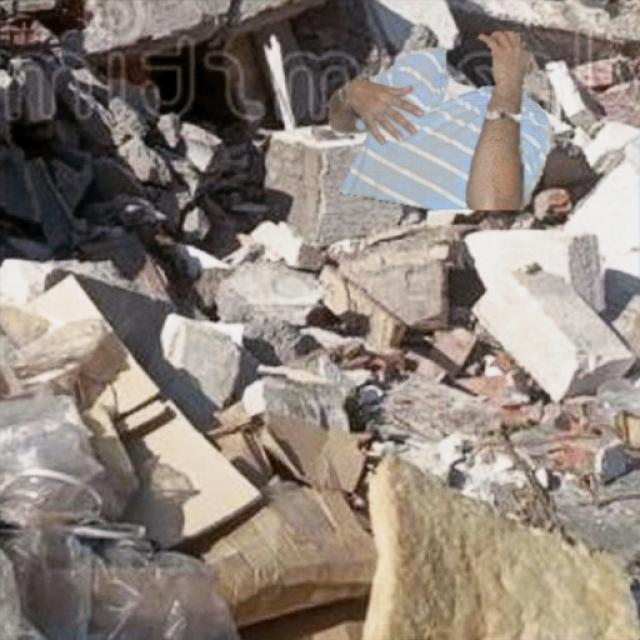Person in Rubble: (328, 31, 552, 209)
